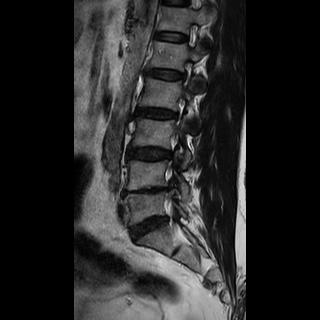LFS0: (165, 93, 194, 130), (173, 55, 202, 90)
